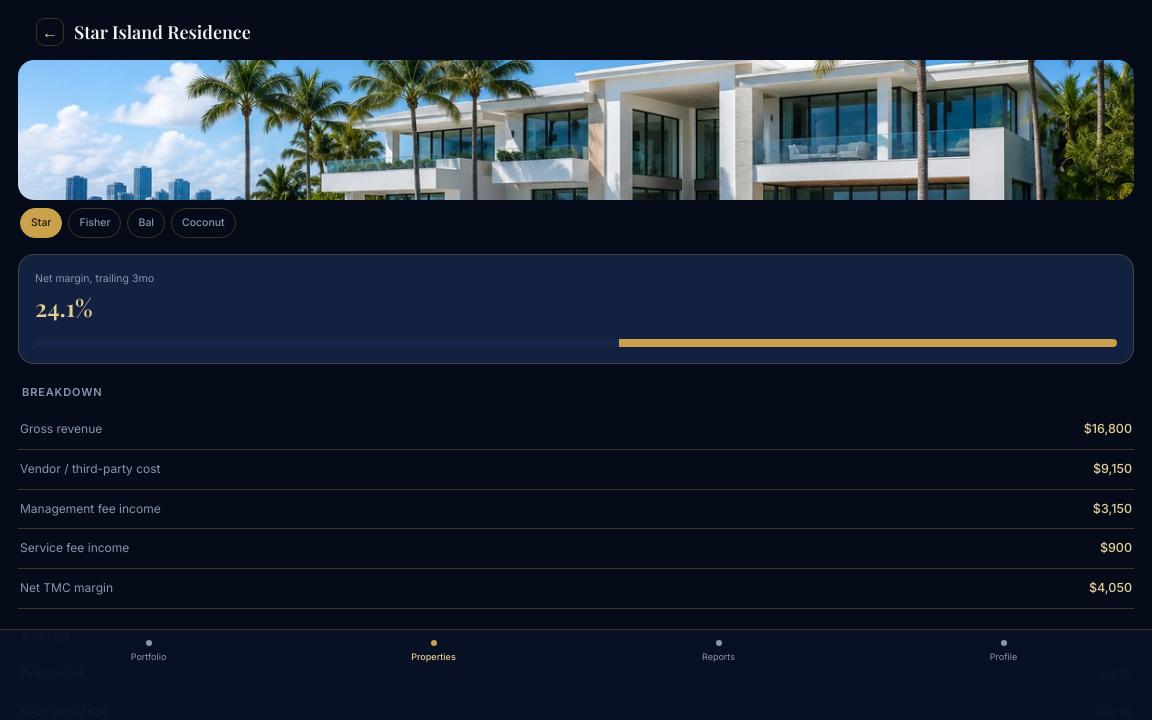
Test case: Investor: Properties tab switch › switching the property tab updates the displayed financial breakdown
Expected: the text "$16,800" is shown, [1084,420,1132,439]
Click the button "Fisher".
click(95, 223)  # box [68,208,121,238]
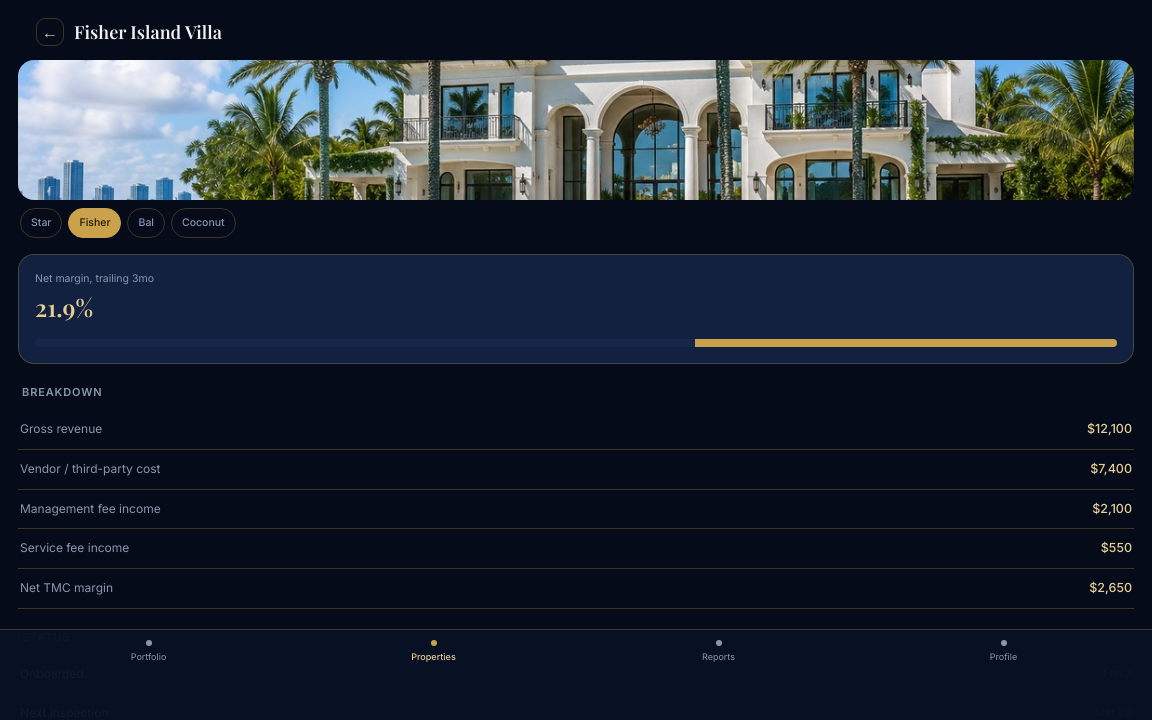
Now the text "$12,100" is shown, box [1087,420,1132,439]
